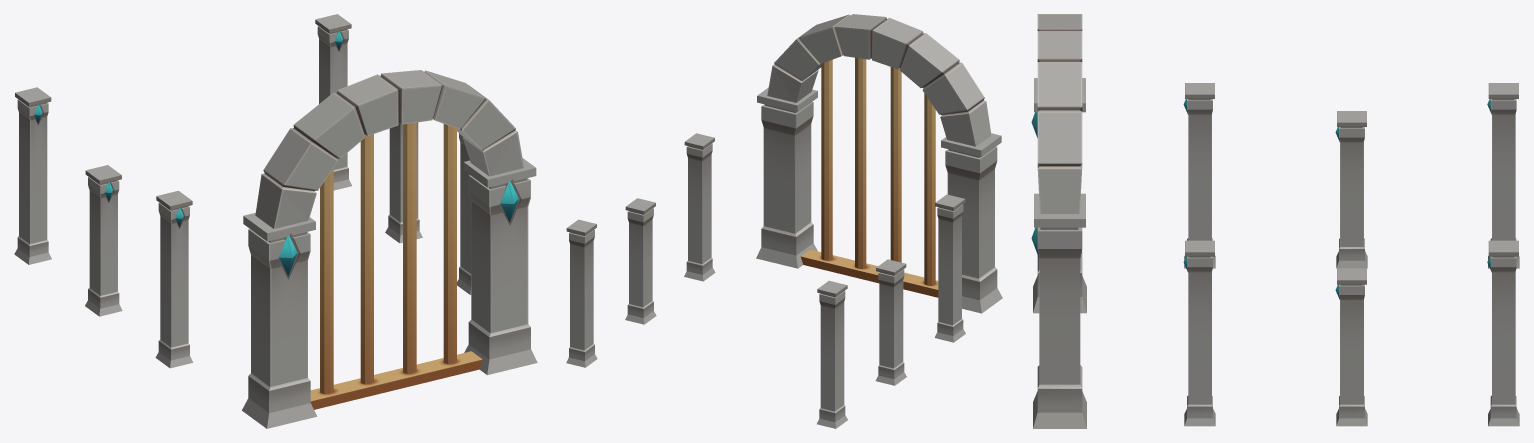
Rendered from door_zeus.FBX.
3 views of the same model, side by side, from view 1: azimuth 30°, elevation 25°; view 2: azimuth 150°, elevation 25°; view 3: azimuth 270°, elevation 25° (orthographic). The views are drawn at different scales.
Visible parts, largest first — view 1: Object071; view 2: Object071; view 3: Object071.
Boxes of the visible parts, box(x1,y1,x2,y2) form: Object071: box(14, 14, 537, 428); Object071: box(566, 14, 1002, 428); Object071: box(1031, 14, 1519, 428).
Size of the model in its own units: 596 by 538 by 725.
